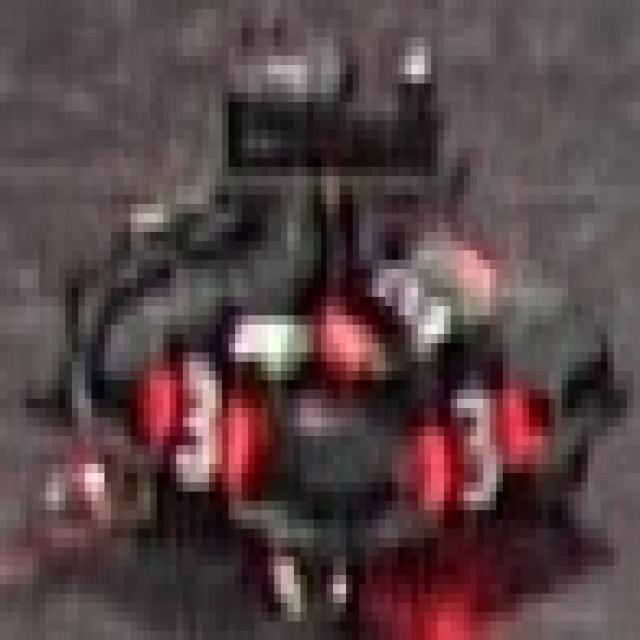R3: (307, 222, 483, 362), (118, 339, 248, 487), (398, 376, 522, 524)
